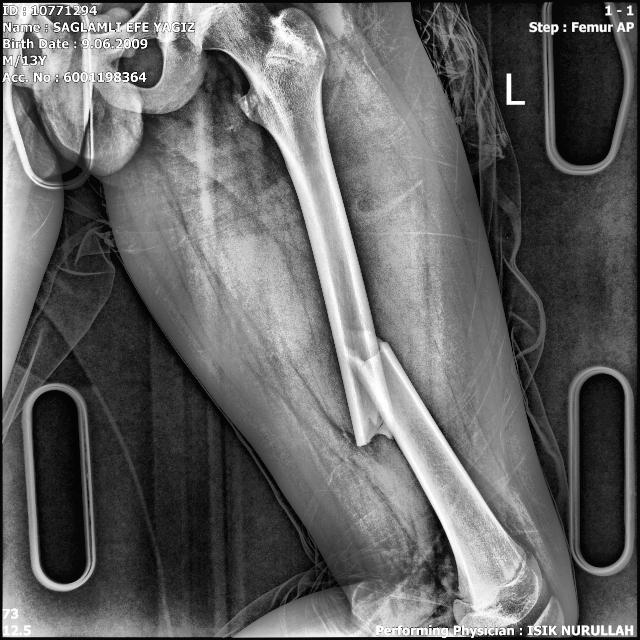Fracture: (335, 324, 427, 455)
